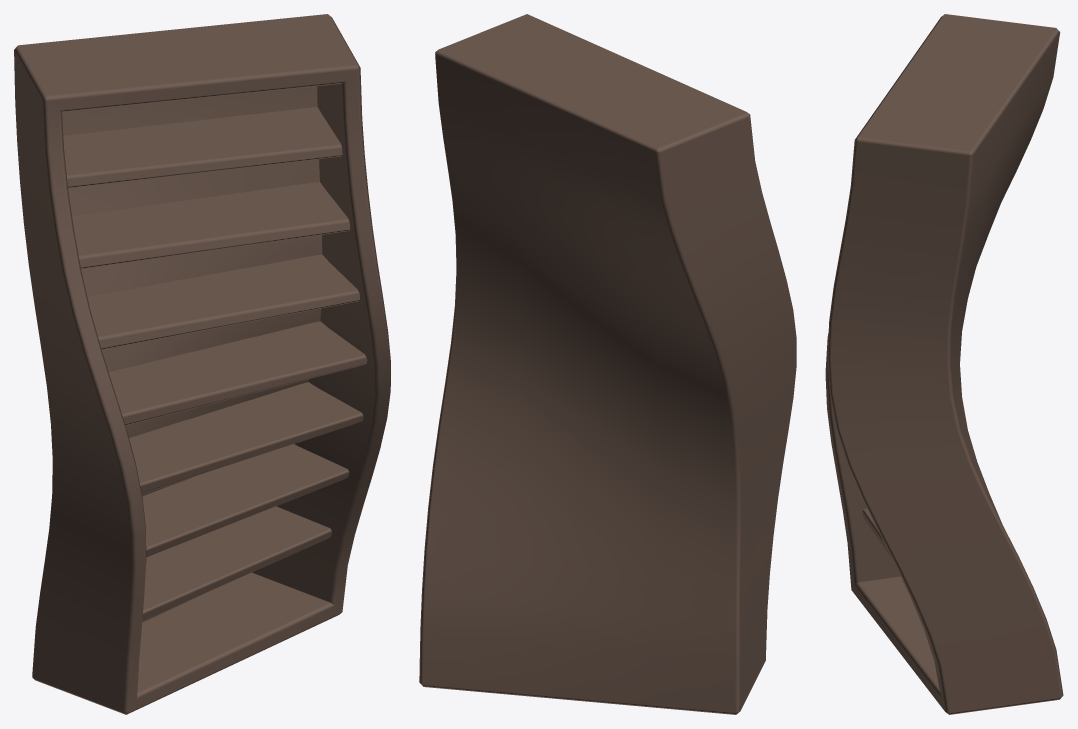
The model's file is Mesh_Prop_Bookshelf_Empty_D.fbx.
3 renders of one model, left to right at view 1: azimuth 30°, elevation 25°; view 2: azimuth 150°, elevation 25°; view 3: azimuth 270°, elevation 25°, orthographic. The views are drawn at different scales.
Visible parts, largest first — view 1: Prop_Bookshelf_Empty_D_Mesh; view 2: Prop_Bookshelf_Empty_D_Mesh; view 3: Prop_Bookshelf_Empty_D_Mesh.
Part boxes in pixels (bbox=[...]): Prop_Bookshelf_Empty_D_Mesh: bbox=[14, 14, 390, 714]; Prop_Bookshelf_Empty_D_Mesh: bbox=[419, 14, 796, 714]; Prop_Bookshelf_Empty_D_Mesh: bbox=[825, 14, 1063, 714].
Bounding box in the file's own units: 2.75 × 5 × 1.91.
